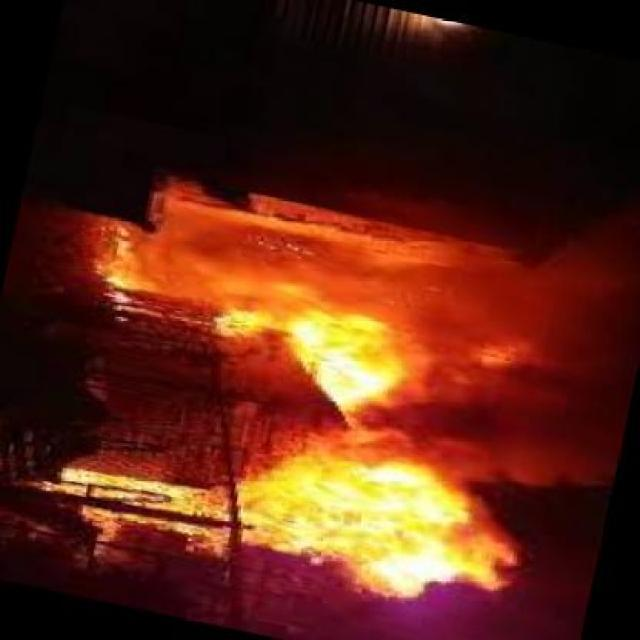Fire: (228, 445, 504, 601), (217, 303, 405, 417)
Smoke: (410, 239, 620, 479)
